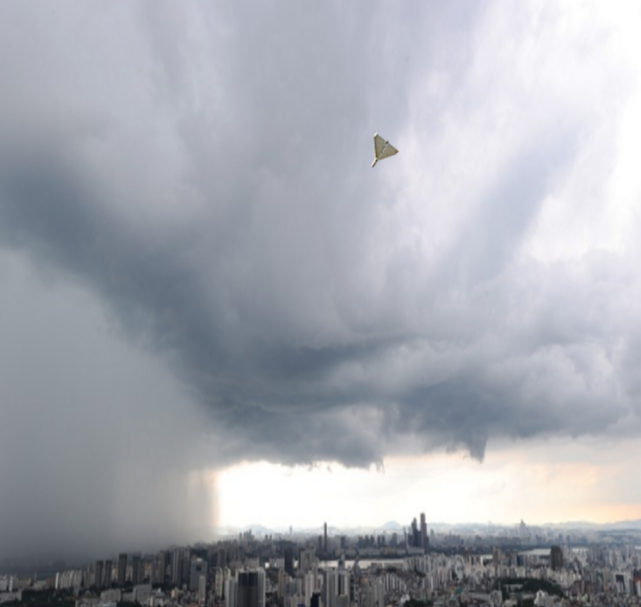military drone: (371, 132, 398, 167)
